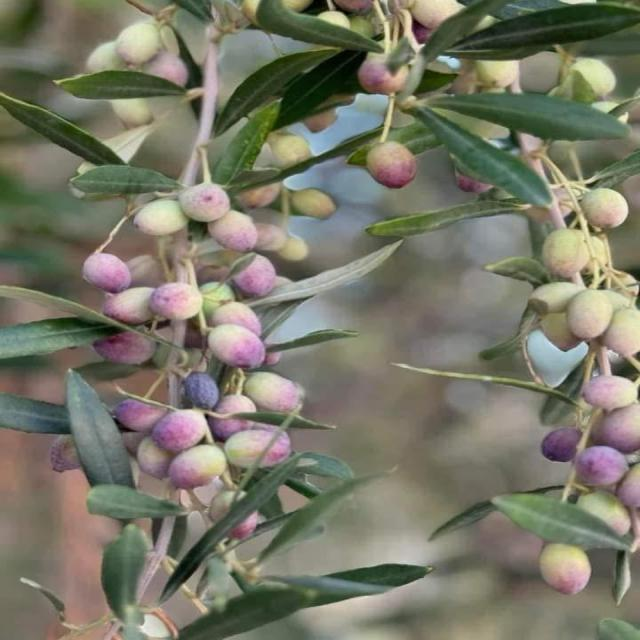Healthy: (169, 443, 228, 490), (150, 409, 208, 454), (541, 228, 592, 279), (244, 371, 305, 413), (540, 543, 590, 594), (209, 324, 265, 369), (366, 141, 417, 189), (568, 289, 613, 341), (575, 446, 628, 490), (208, 210, 258, 252), (133, 199, 188, 237), (178, 182, 230, 222), (581, 375, 637, 412), (83, 251, 132, 293), (149, 283, 201, 322), (580, 187, 628, 229), (102, 287, 155, 324), (540, 427, 581, 462)
